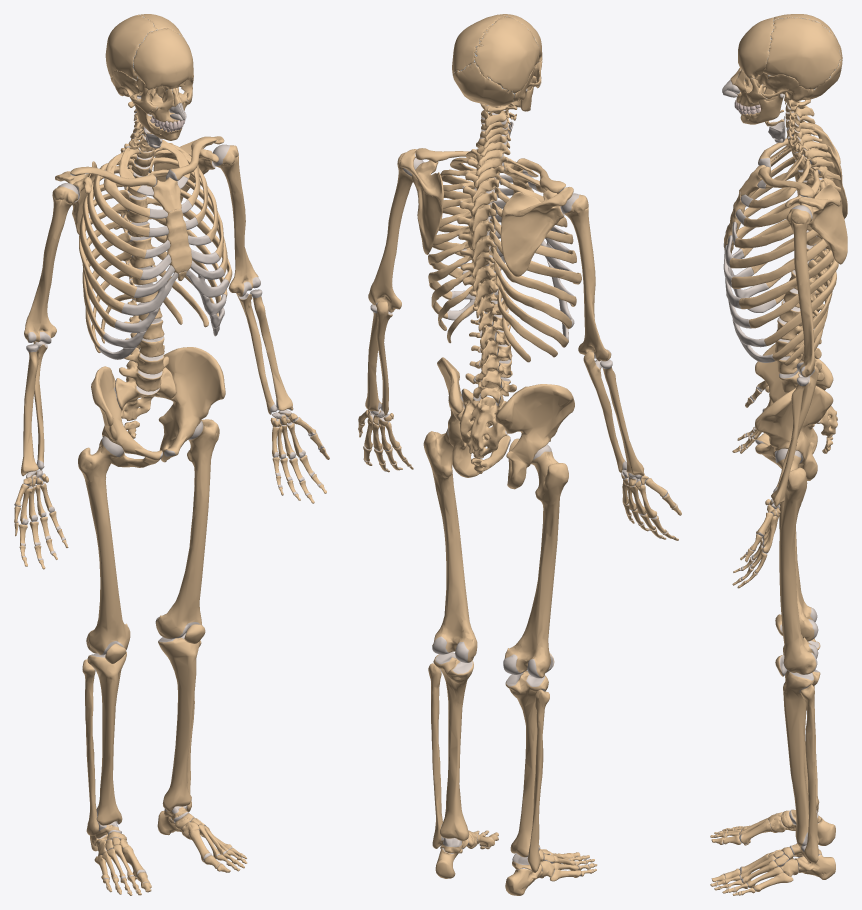
File: skeletal-system.glb
3 views of the same model, side by side, from view 1: azimuth 30°, elevation 25°; view 2: azimuth 150°, elevation 25°; view 3: azimuth 270°, elevation 25° (orthographic). The views are drawn at different scales.
Parts seen in each view (by area): view 1: Femur.r · Web, Femur.l · Web, Hip bone.l · Web, Tibia.l · Web, Frontal bone · Web, Tibia.r · Web, Humerus.r · Web, Humerus.l · Web, Hip bone.r · Web, Parietal bone.r · Web, Sacrum · Web, Fibula.r · Web (+18 smaller); view 2: Femur.r · Web, Femur.l · Web, Hip bone.r · Web, Scapula.r · Web, Parietal bone.r · Web, Tibia.l · Web, Tibia.r · Web, Humerus.r · Web, Humerus.l · Web, Hip bone.l · Web, Scapula.l · Web, Sacrum · Web (+15 smaller); view 3: Femur.l · Web, Parietal bone.l · Web, Tibia.l · Web, Hip bone.l · Web, Humerus.l · Web, Scapula.l · Web, Fibula.l · Web, Frontal bone · Web, Hip bone.r · Web, Radius.l · Web, Femur.r · Web, Seventh rib.l · Web (+28 smaller).
Boxes of the visible parts, x1=… form: Femur.r · Web: x1=78, y1=436, x2=130, y2=655; Femur.l · Web: x1=155, y1=419, x2=219, y2=639; Hip bone.l · Web: x1=158, y1=347, x2=225, y2=462; Tibia.l · Web: x1=158, y1=633, x2=200, y2=811; Frontal bone · Web: x1=133, y1=28, x2=193, y2=91; Tibia.r · Web: x1=87, y1=652, x2=126, y2=825; Humerus.r · Web: x1=24, y1=183, x2=78, y2=344; Humerus.l · Web: x1=212, y1=144, x2=260, y2=296; Hip bone.r · Web: x1=91, y1=366, x2=162, y2=467; Parietal bone.r · Web: x1=105, y1=14, x2=157, y2=79; Sacrum · Web: x1=115, y1=367, x2=175, y2=420; Fibula.r · Web: x1=82, y1=659, x2=99, y2=835; Femur.r · Web: x1=503, y1=444, x2=568, y2=678; Femur.l · Web: x1=423, y1=428, x2=477, y2=662; Hip bone.r · Web: x1=495, y1=384, x2=574, y2=489; Scapula.r · Web: x1=500, y1=187, x2=573, y2=276; Parietal bone.r · Web: x1=474, y1=16, x2=539, y2=93; Tibia.l · Web: x1=433, y1=652, x2=473, y2=840; Tibia.r · Web: x1=505, y1=671, x2=548, y2=857; Humerus.r · Web: x1=561, y1=193, x2=611, y2=361; Humerus.l · Web: x1=368, y1=152, x2=423, y2=312; Hip bone.l · Web: x1=437, y1=357, x2=510, y2=477; Scapula.l · Web: x1=400, y1=149, x2=443, y2=254; Sacrum · Web: x1=459, y1=388, x2=507, y2=458; Femur.l · Web: x1=775, y1=448, x2=818, y2=674; Parietal bone.l · Web: x1=763, y1=17, x2=840, y2=89; Tibia.l · Web: x1=783, y1=669, x2=820, y2=846; Hip bone.l · Web: x1=755, y1=386, x2=833, y2=480; Humerus.l · Web: x1=786, y1=205, x2=815, y2=377; Scapula.l · Web: x1=785, y1=183, x2=847, y2=264; Fibula.l · Web: x1=800, y1=684, x2=818, y2=863; Frontal bone · Web: x1=738, y1=17, x2=774, y2=78; Hip bone.r · Web: x1=755, y1=343, x2=833, y2=453; Radius.l · Web: x1=771, y1=377, x2=808, y2=506; Femur.r · Web: x1=779, y1=470, x2=818, y2=641; Seventh rib.l · Web: x1=739, y1=249, x2=834, y2=309.
Bounding box in the file's own units: 0.6692 × 1.7 × 0.2501.
